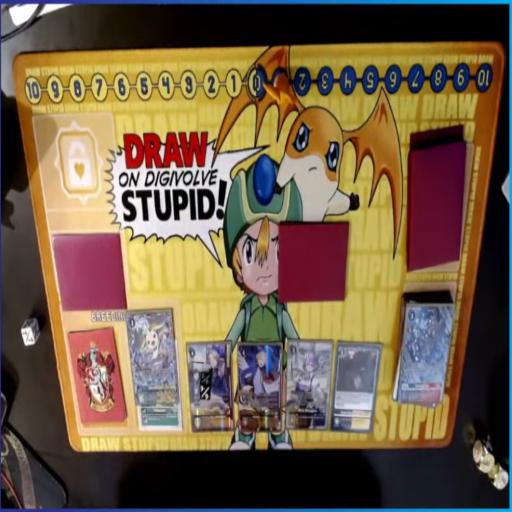card: (393, 290, 454, 406), (125, 308, 180, 405), (236, 340, 283, 436), (331, 342, 381, 430), (286, 340, 333, 429), (187, 342, 233, 429), (138, 403, 182, 432)
